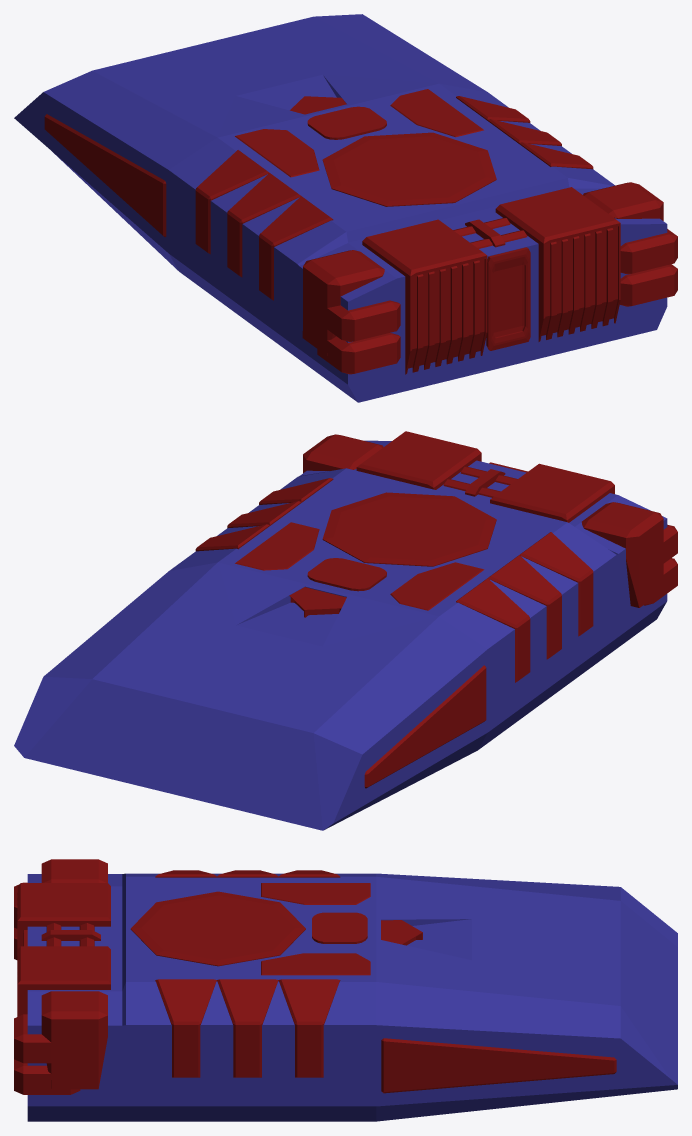
Rendered from Trapper.fbx.
The picture shows the model from 3 angles, top to bottom: view 1: azimuth 30°, elevation 25°; view 2: azimuth 150°, elevation 25°; view 3: azimuth 270°, elevation 25°; orthographic projection. The views are drawn at different scales.
Parts seen in each view (by area): view 1: polySurface26, polySurface23; view 2: polySurface26, polySurface23; view 3: polySurface26, polySurface23.
Part boxes in pixels (bbox=[...]): polySurface26: bbox=[14, 14, 667, 402]; polySurface23: bbox=[44, 89, 677, 374]; polySurface26: bbox=[14, 440, 667, 830]; polySurface23: bbox=[195, 431, 677, 788]; polySurface26: bbox=[27, 873, 677, 1121]; polySurface23: bbox=[14, 859, 616, 1094].
Bounding box in the file's own units: 3.54 × 1.28 × 6.22.
